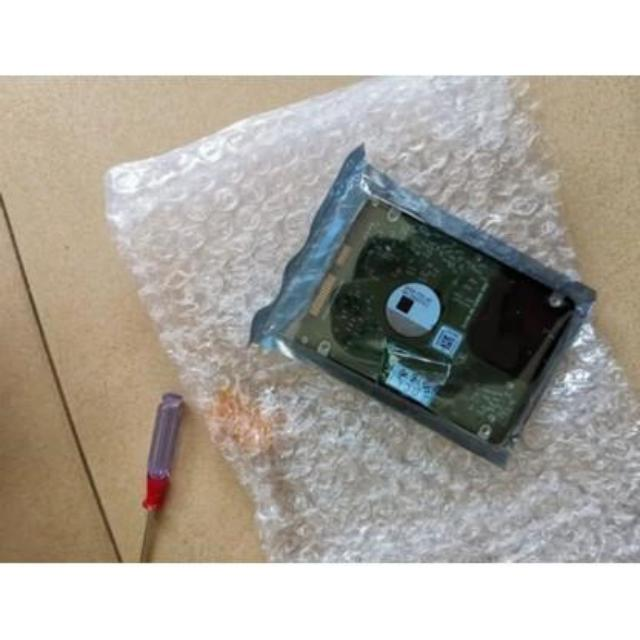DISK: (296, 196, 570, 462)
